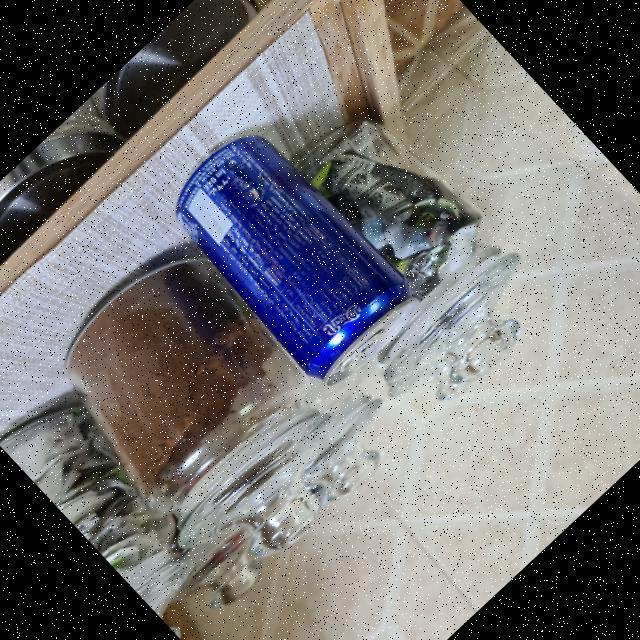can: (142, 111, 436, 411)
